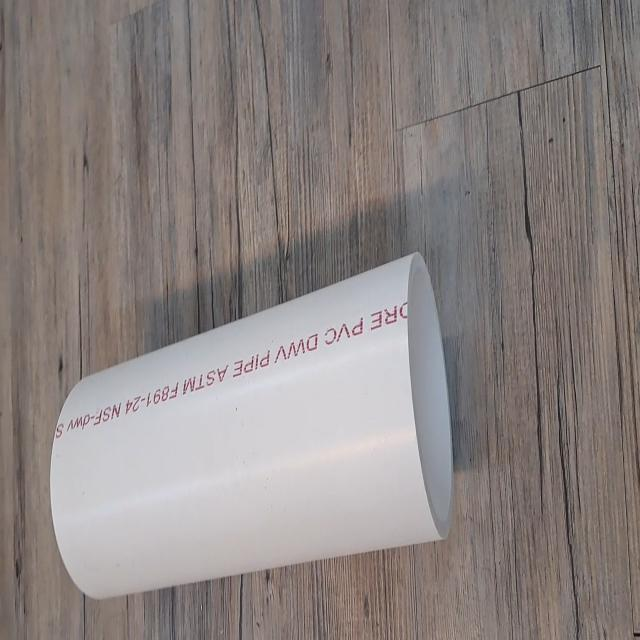CORAL: (41, 239, 458, 606)
